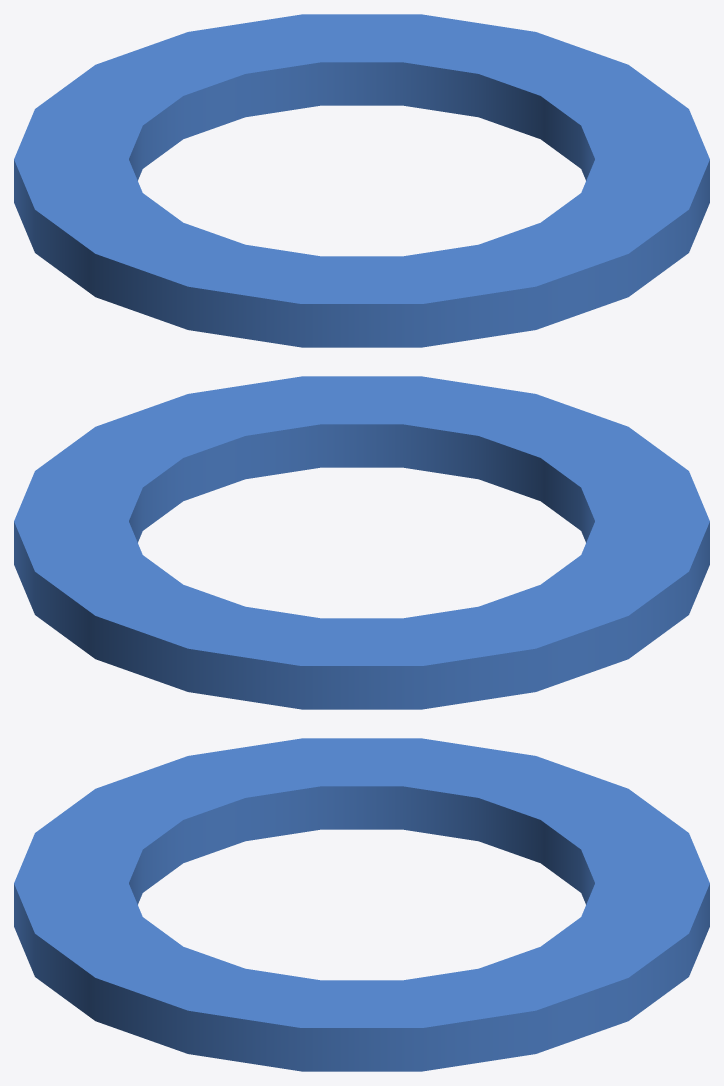
File: tubeTop.obj
The picture shows the model from 3 angles, top to bottom: view 1: azimuth 30°, elevation 25°; view 2: azimuth 150°, elevation 25°; view 3: azimuth 270°, elevation 25°; orthographic projection.
Parts seen in each view (by area): view 1: Tube001; view 2: Tube001; view 3: Tube001.
Part boxes in pixels (left/top/right/bottom): Tube001: left=14, top=14, right=709, bottom=347; Tube001: left=14, top=376, right=709, bottom=709; Tube001: left=14, top=738, right=709, bottom=1071.
Bounding box in the file's own units: 14.32 × 1 × 14.54.
